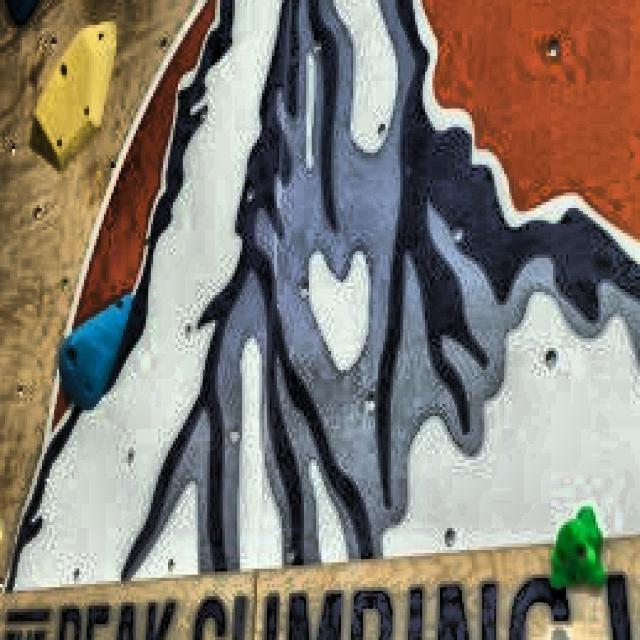Hold: (30, 22, 116, 171), (59, 292, 133, 413), (551, 506, 608, 593), (2, 0, 42, 28)
